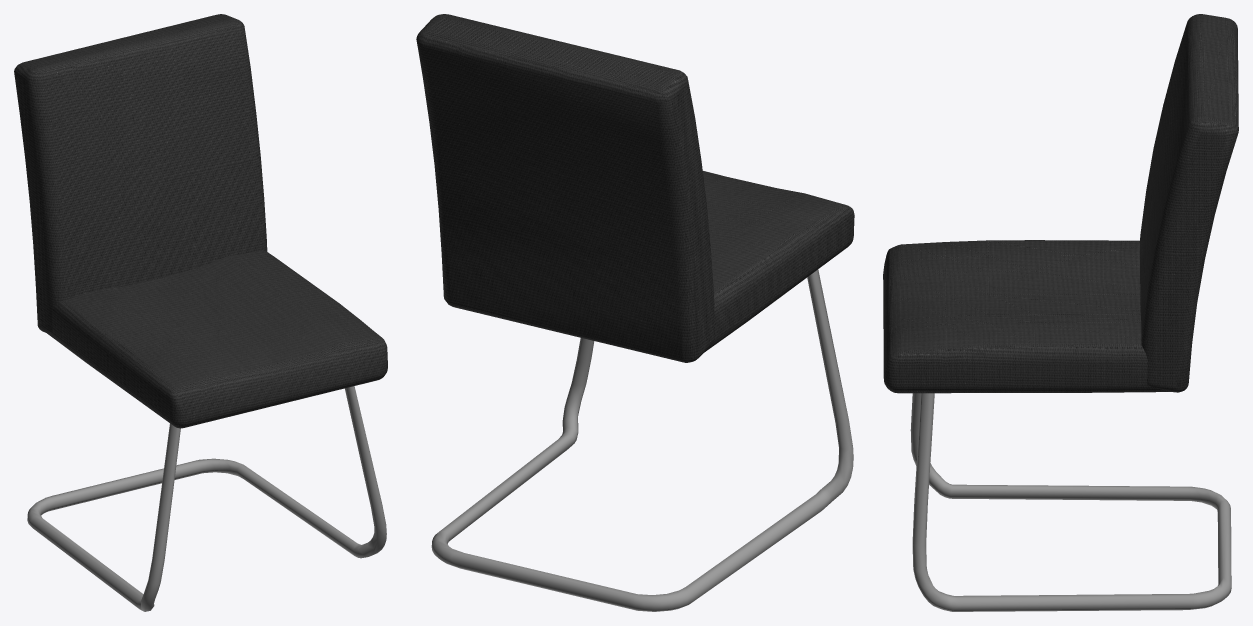
The model's file is Chair 2.FBX.
3 renders of one model, left to right at view 1: azimuth 30°, elevation 25°; view 2: azimuth 150°, elevation 25°; view 3: azimuth 270°, elevation 25°, orthographic. The views are drawn at different scales.
Visible parts, largest first — view 1: Chair 2; view 2: Chair 2; view 3: Chair 2.
Part boxes in pixels (x1,y1,x2,y2): Chair 2: (14,14,387,611); Chair 2: (416,14,854,611); Chair 2: (883,14,1238,611).
Bounding box in the file's own units: 52.49 × 94.17 × 62.22.
